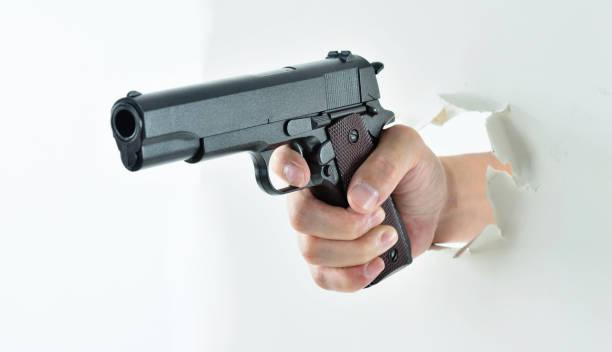weapon: (106, 48, 424, 286)
